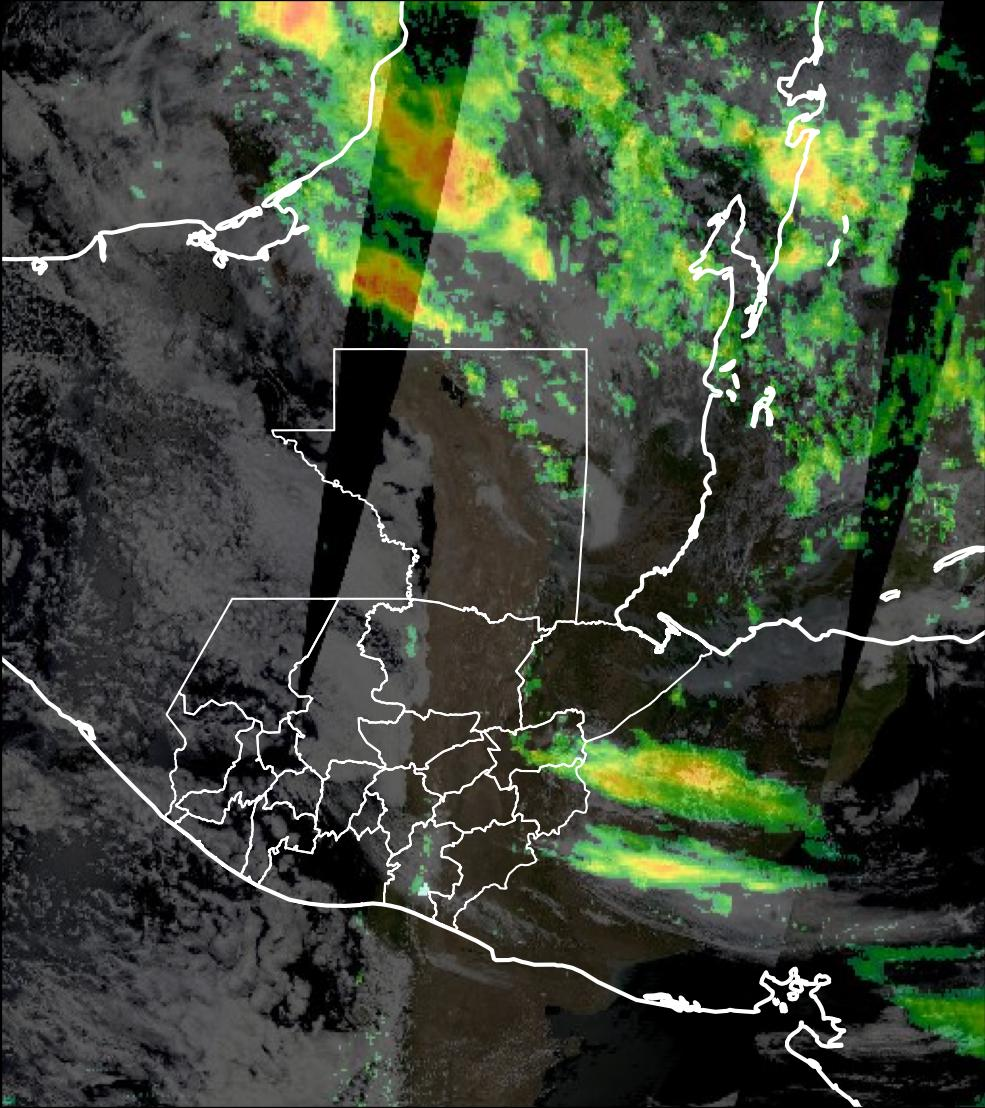precipitacion: (390, 110, 502, 234), (346, 253, 474, 353)
